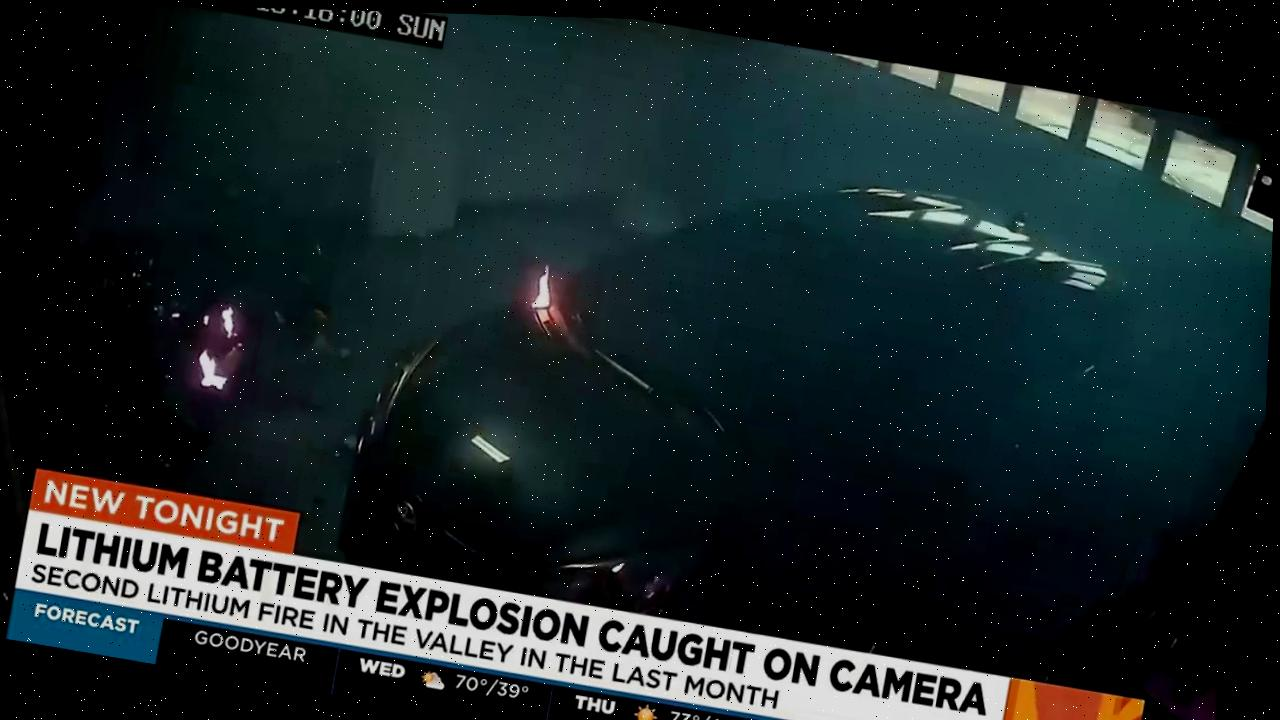fire: (128, 72, 636, 412)
